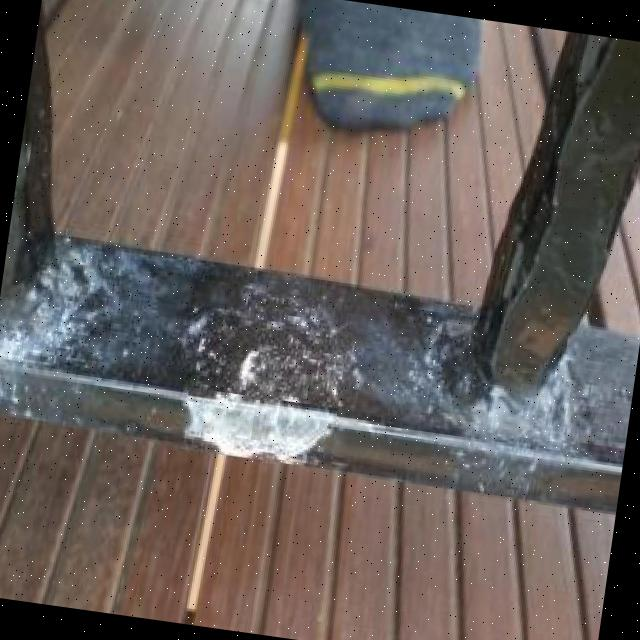Corrosion: (0, 409, 617, 640)
